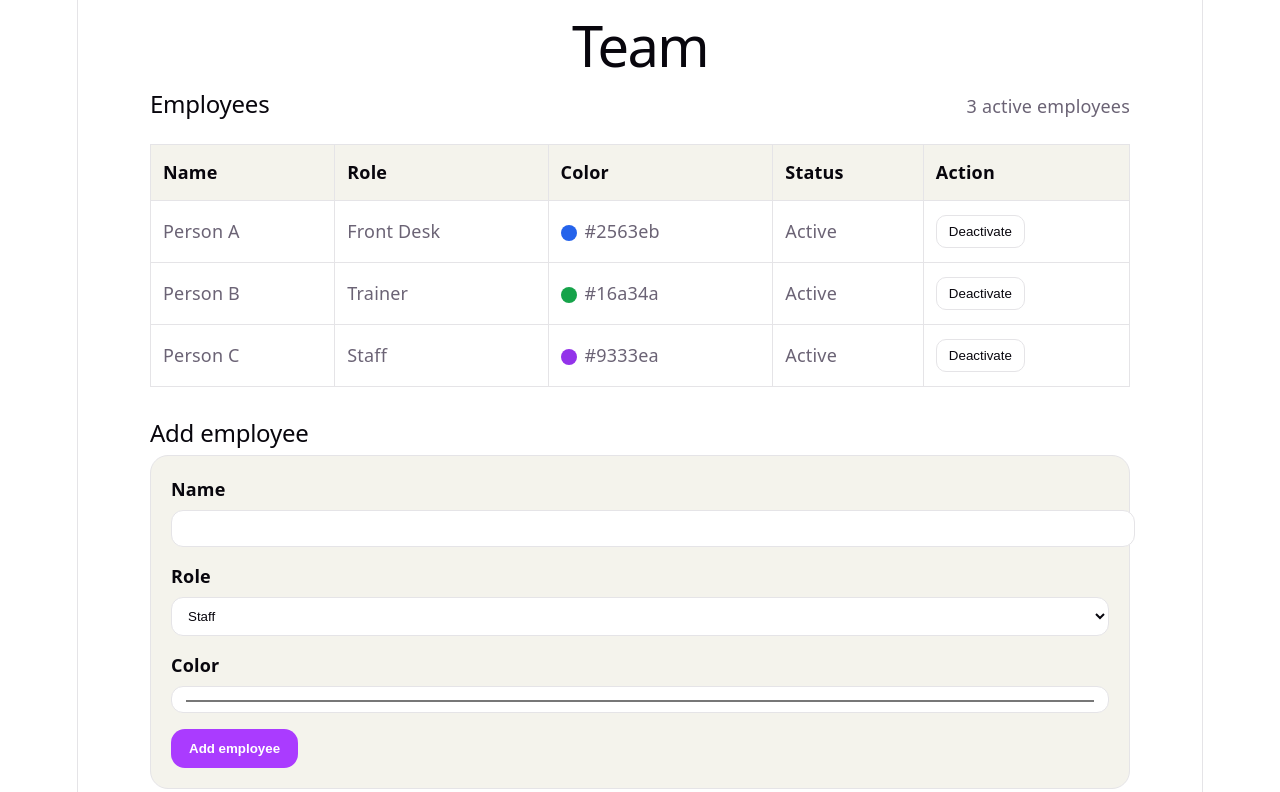
Test: TeamPage › allows adding and deactivating employees
Click the button "Deactivate" in the row of "Person A". click: click(980, 231)
box: [936, 214, 1025, 248]
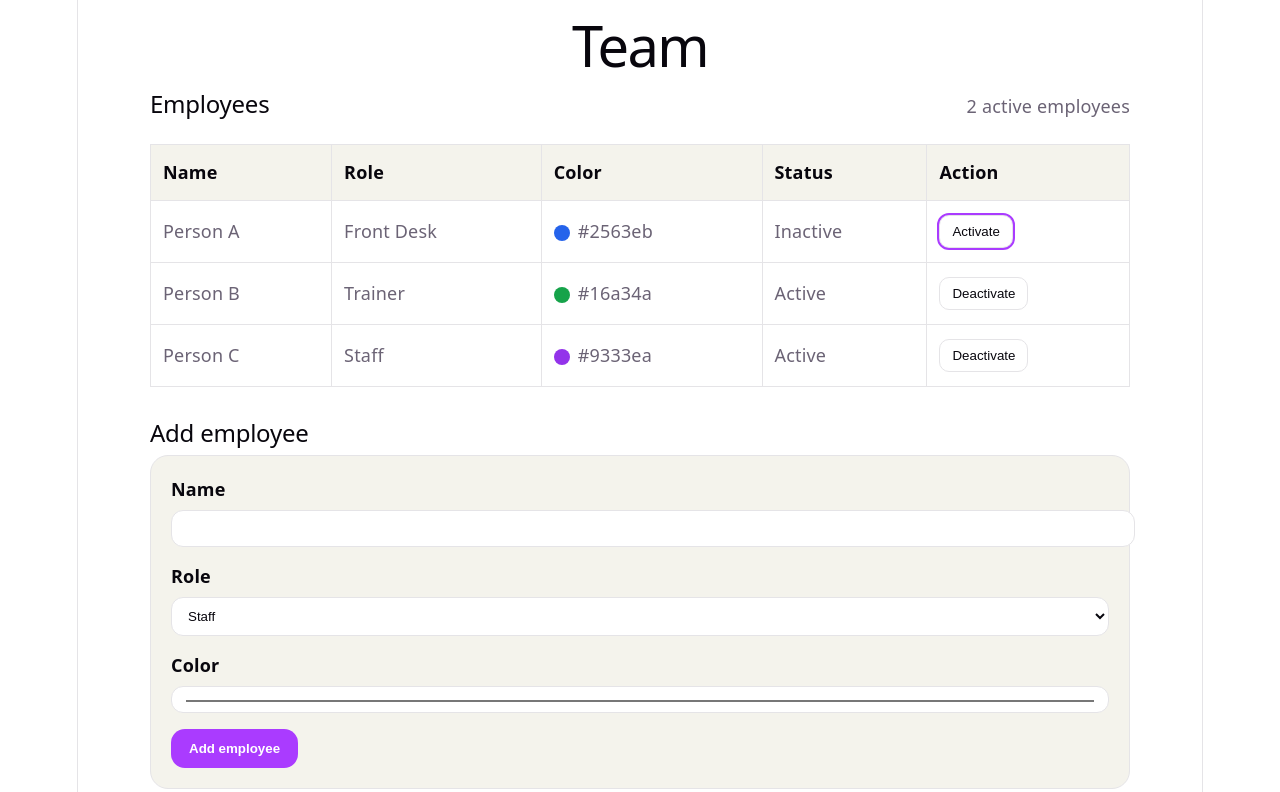
Expected: the button "Activate" is shown, [940, 214, 1013, 248]
Type "New Hire" into the field labelled "Name". click: (653, 528)
box: [171, 510, 1135, 547]
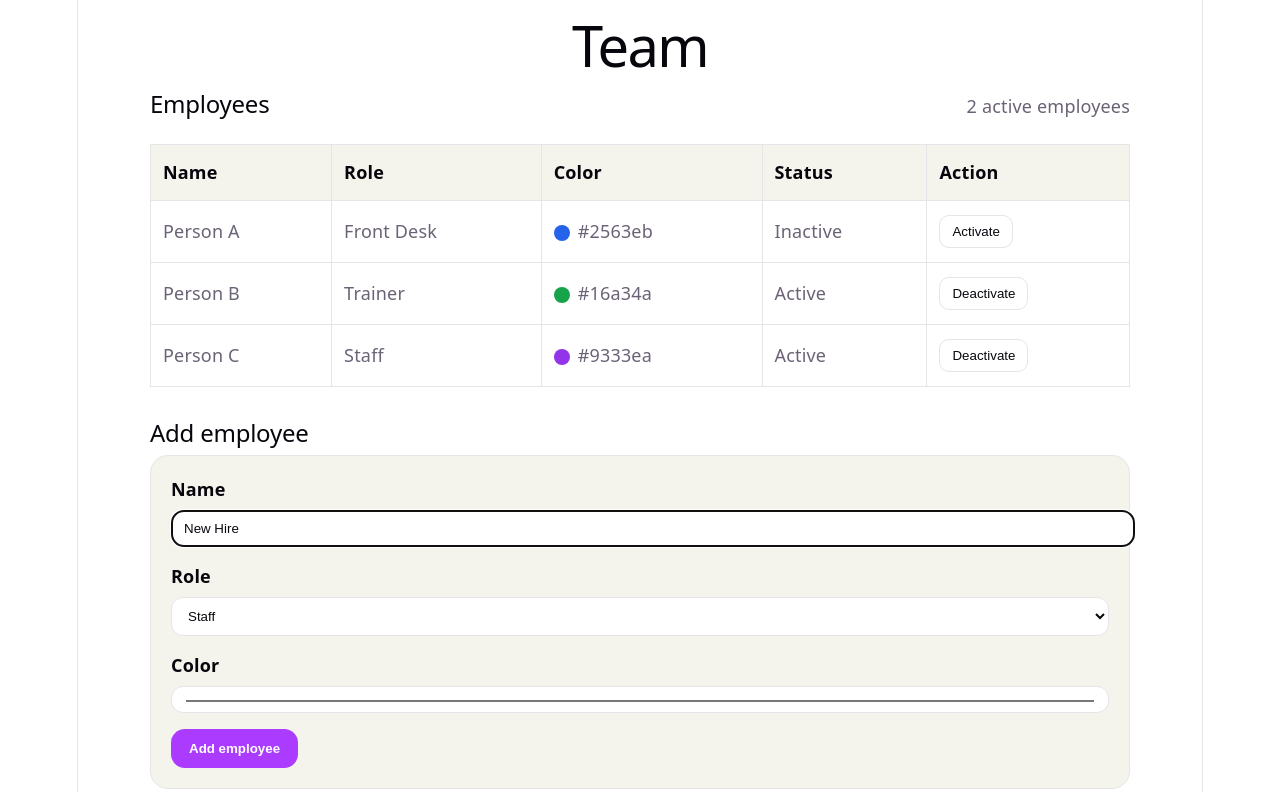
Select "Cleaner" in the dropdown labelled "Role". click: (640, 616)
box: [171, 597, 1109, 636]
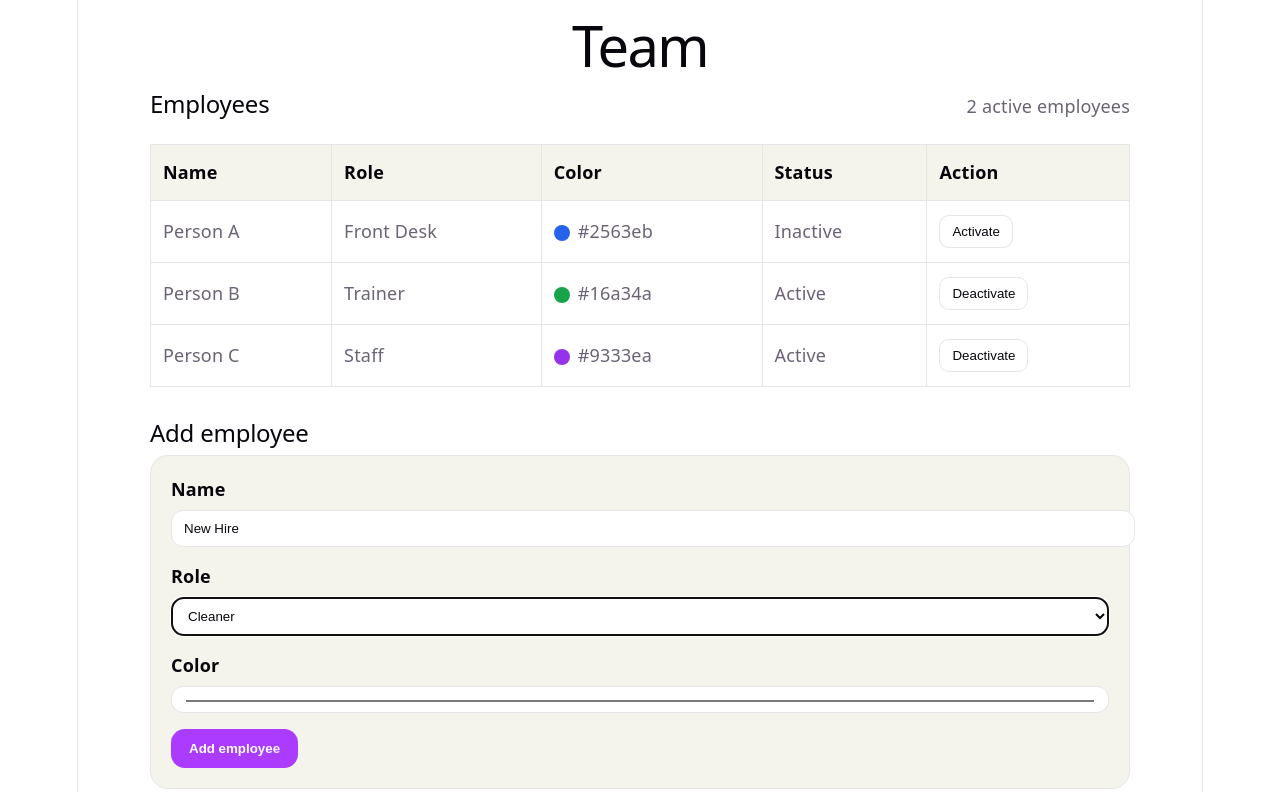
Click the button "Add employee". click: click(235, 749)
box: [171, 729, 298, 768]
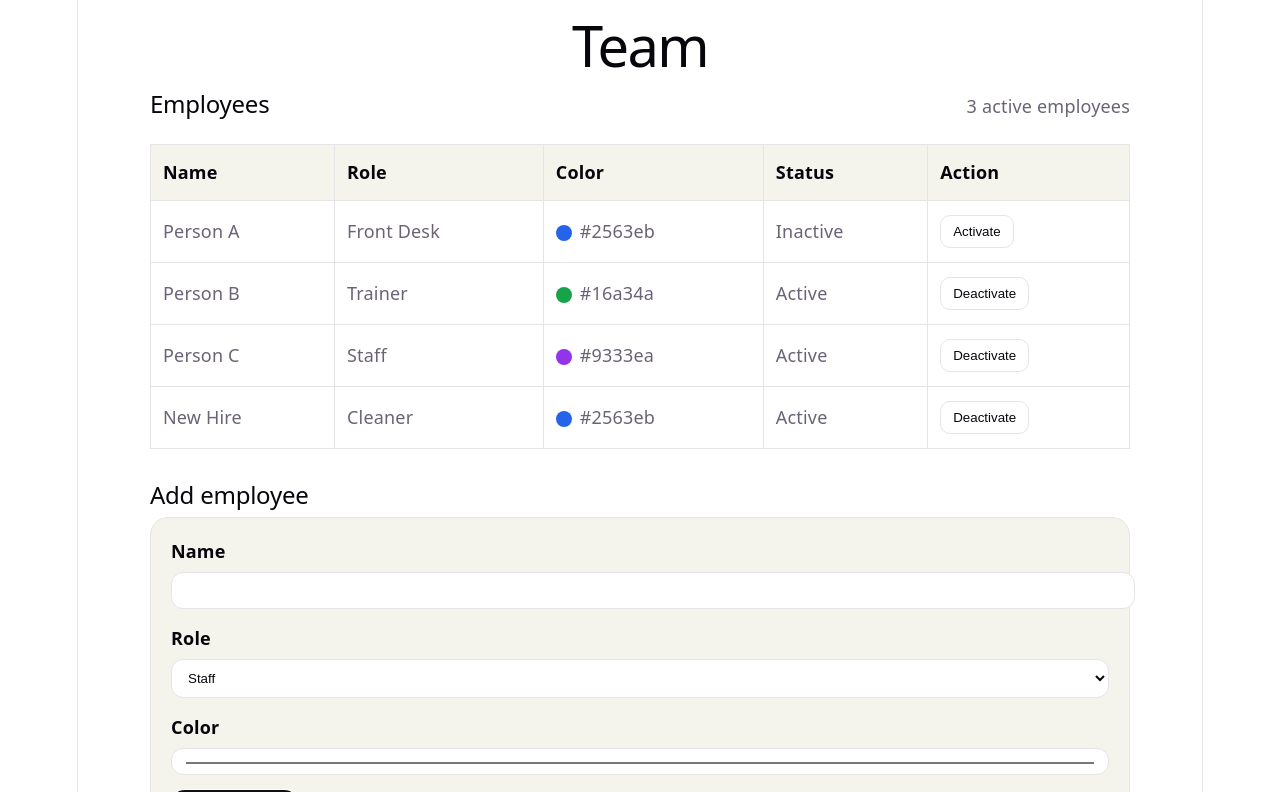
Expected: the text "3 active employees" is shown, [967, 93, 1130, 119]
Expected: the text "New Hire" is shown, [150, 386, 334, 448]
